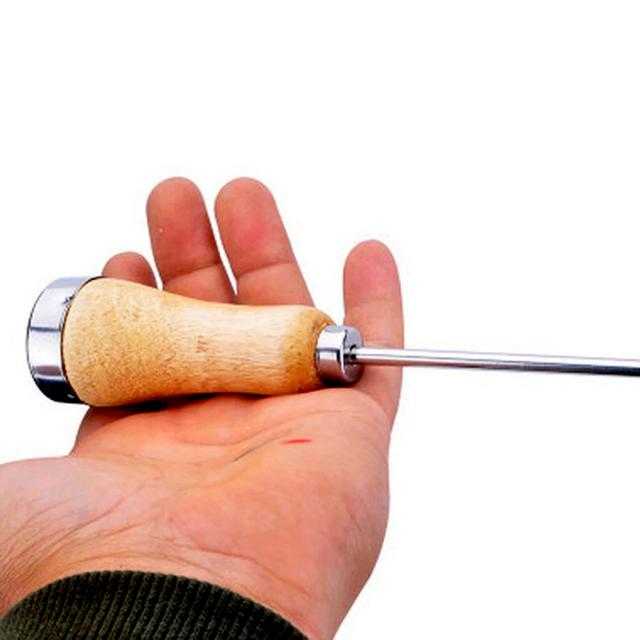ice pick: (26, 277, 640, 409)
